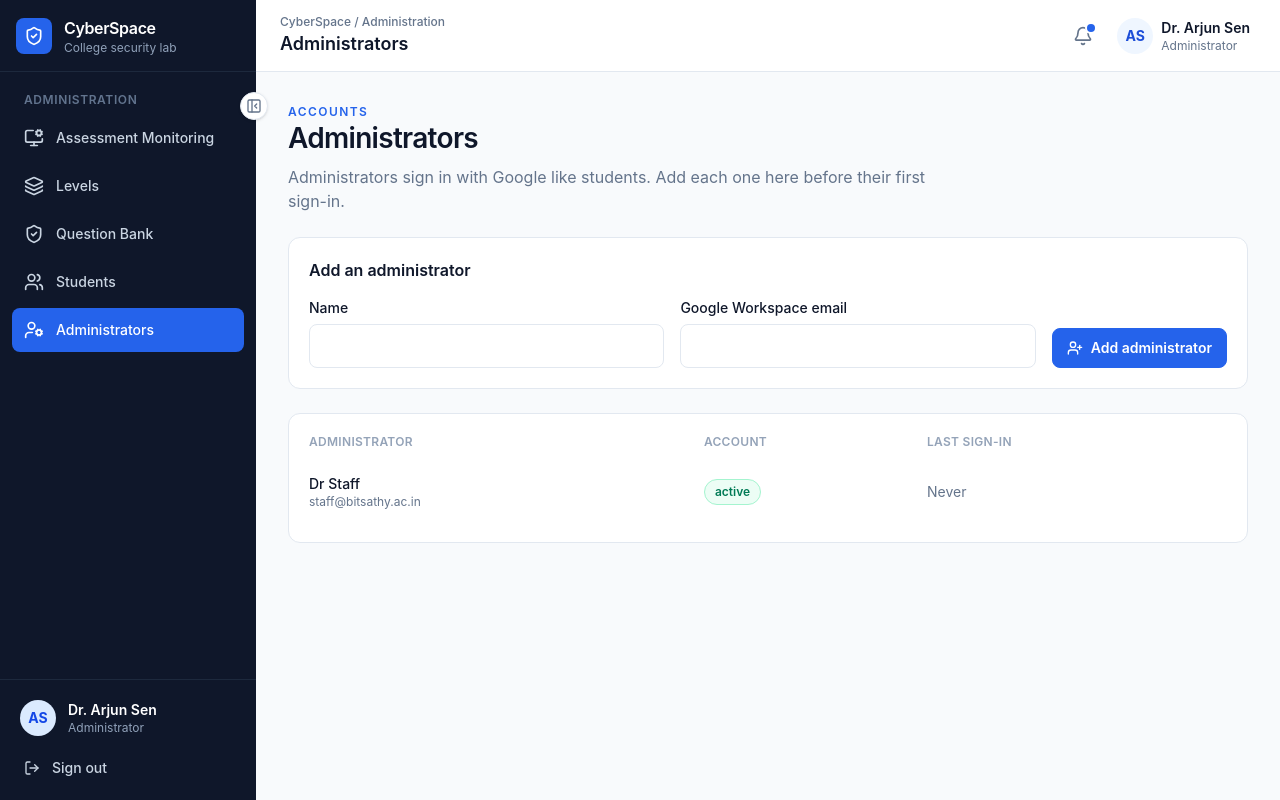
Test case: accounts › adds an administrator and reports a refusal
Expected: the text "Dr Staff" is shown, [309,475,360,492]
Type "Prof New" into the field labelled "Name" at x=487, y=346, box [309,324,664,368]
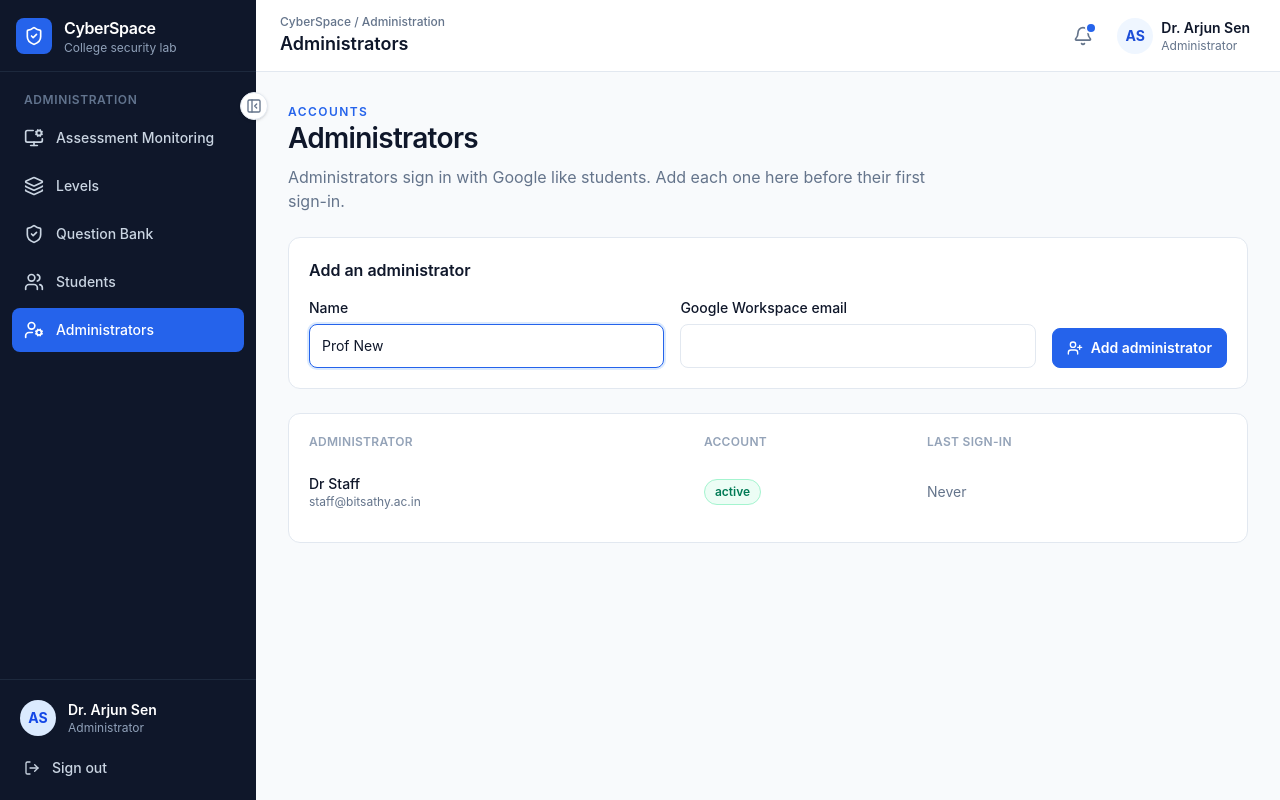
Type "new@bitsathy.ac.in" into the field labelled "Google Workspace email" at x=858, y=346, box [680,324,1036,368]
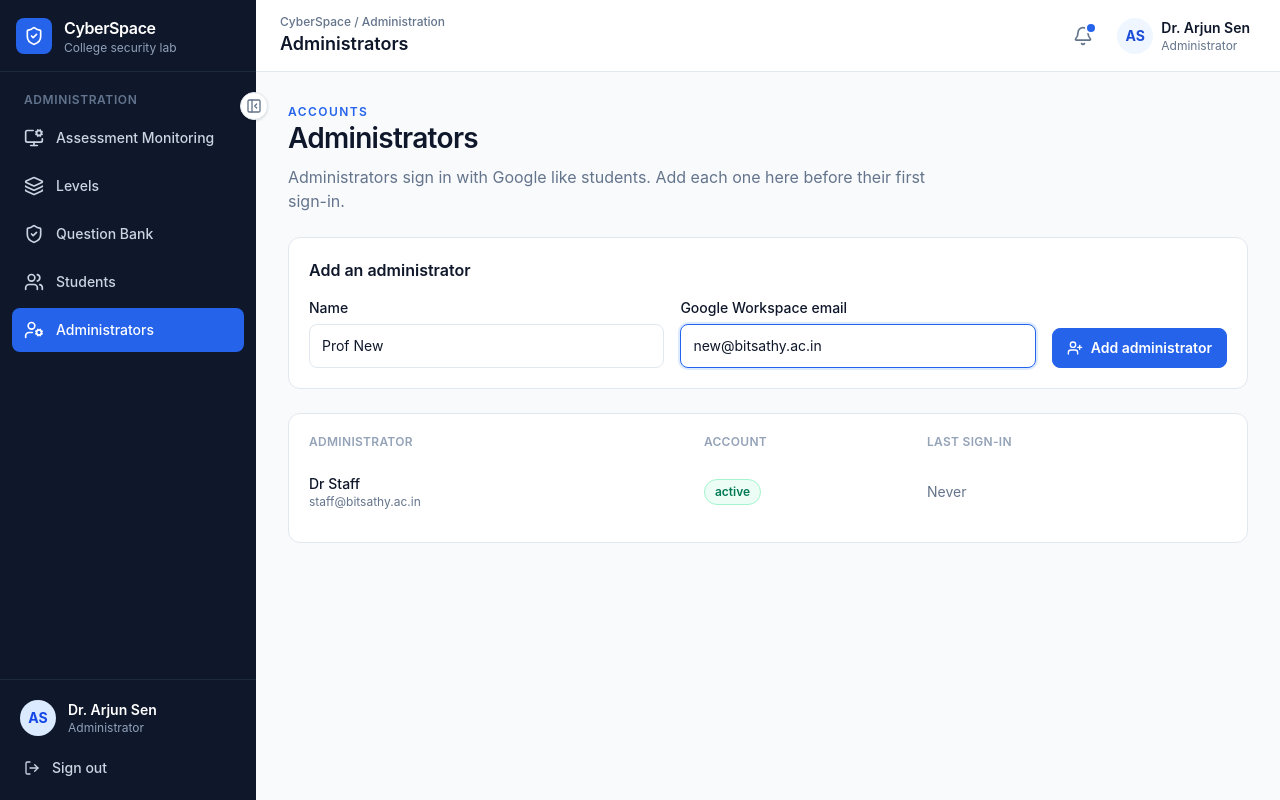
Click the button "Add administrator" at x=1139, y=348, box [1052,328,1227,368]
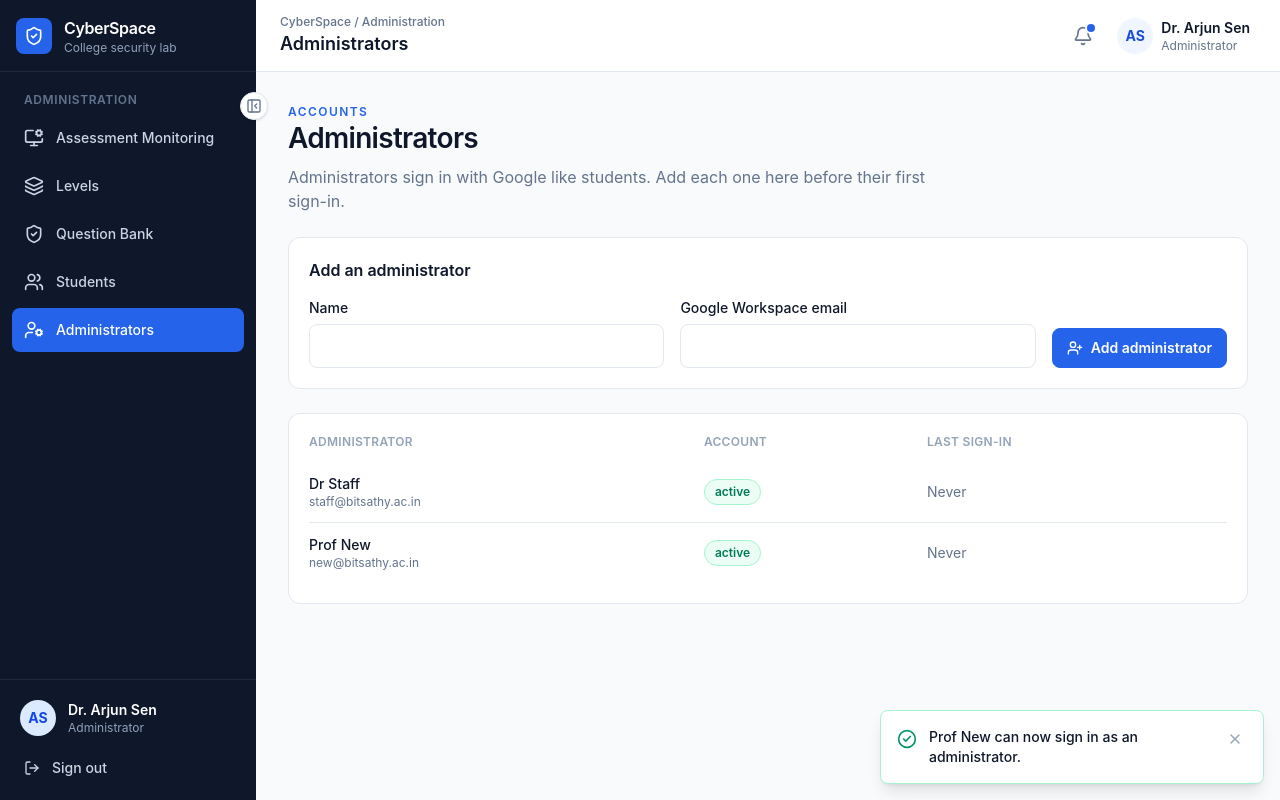
Now the text "Prof New can now sign in as an administrator." is shown, box [929,728,1138,765]
Now the text "new@bitsathy.ac.in" is shown, box [309,555,419,570]
Now the field labelled "Name" is empty
Type "Again" into the field labelled "Name" at x=487, y=346, box [309,324,664,368]
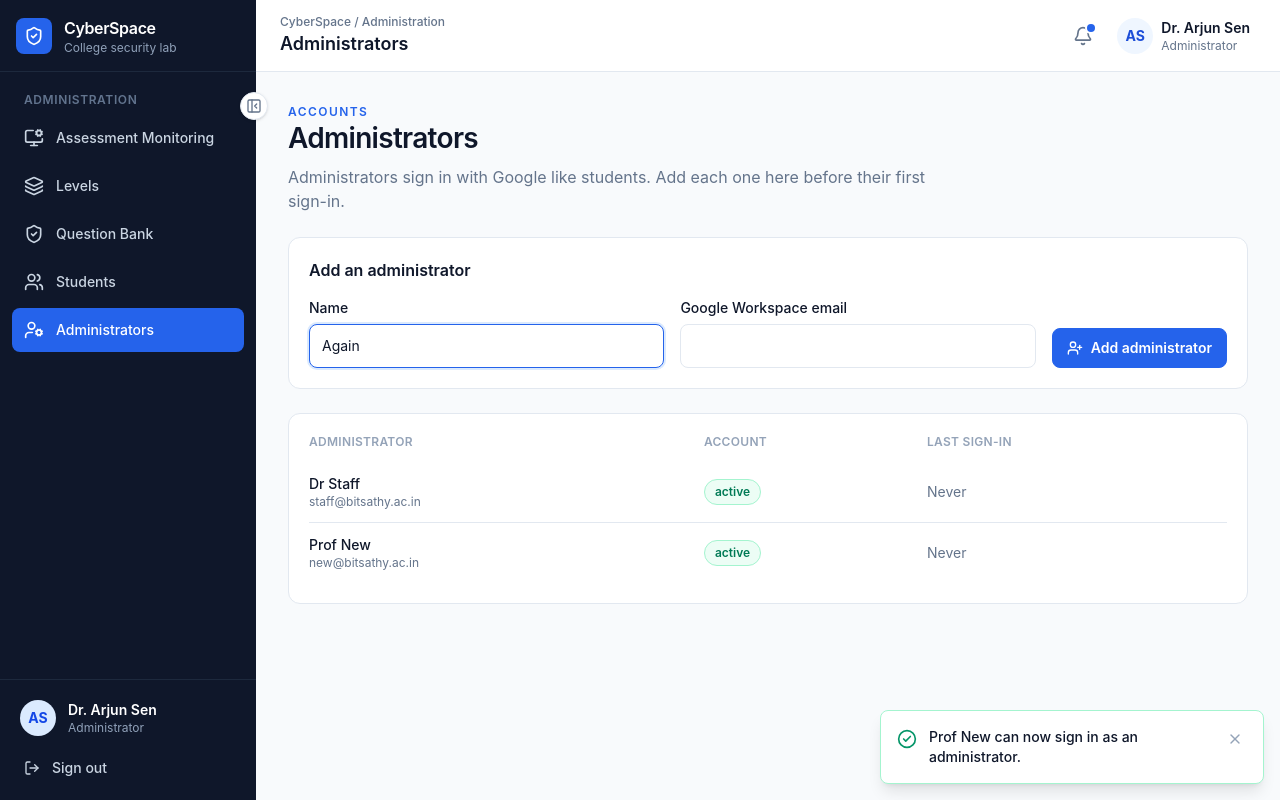
Type "taken@bitsathy.ac.in" into the field labelled "Google Workspace email" at x=858, y=346, box [680,324,1036,368]
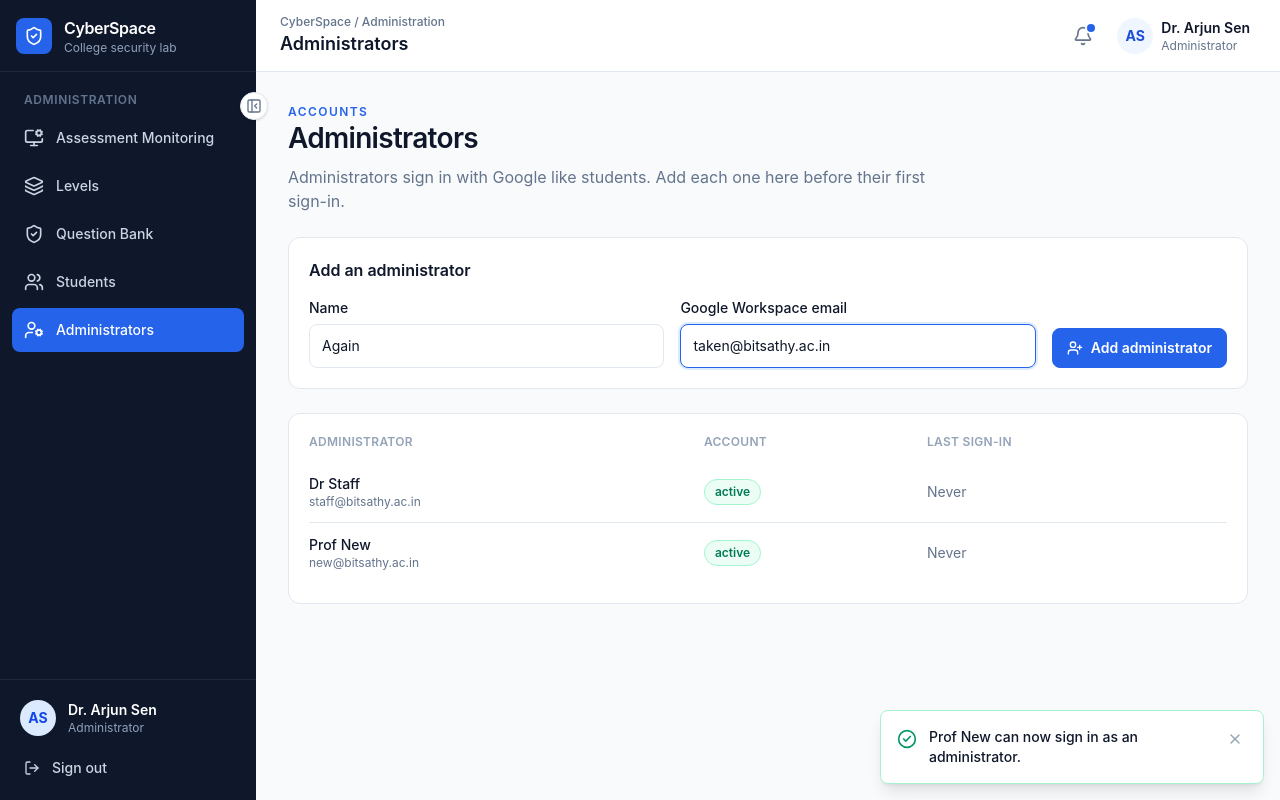
Click the button "Add administrator" at x=1139, y=348, box [1052,328,1227,368]
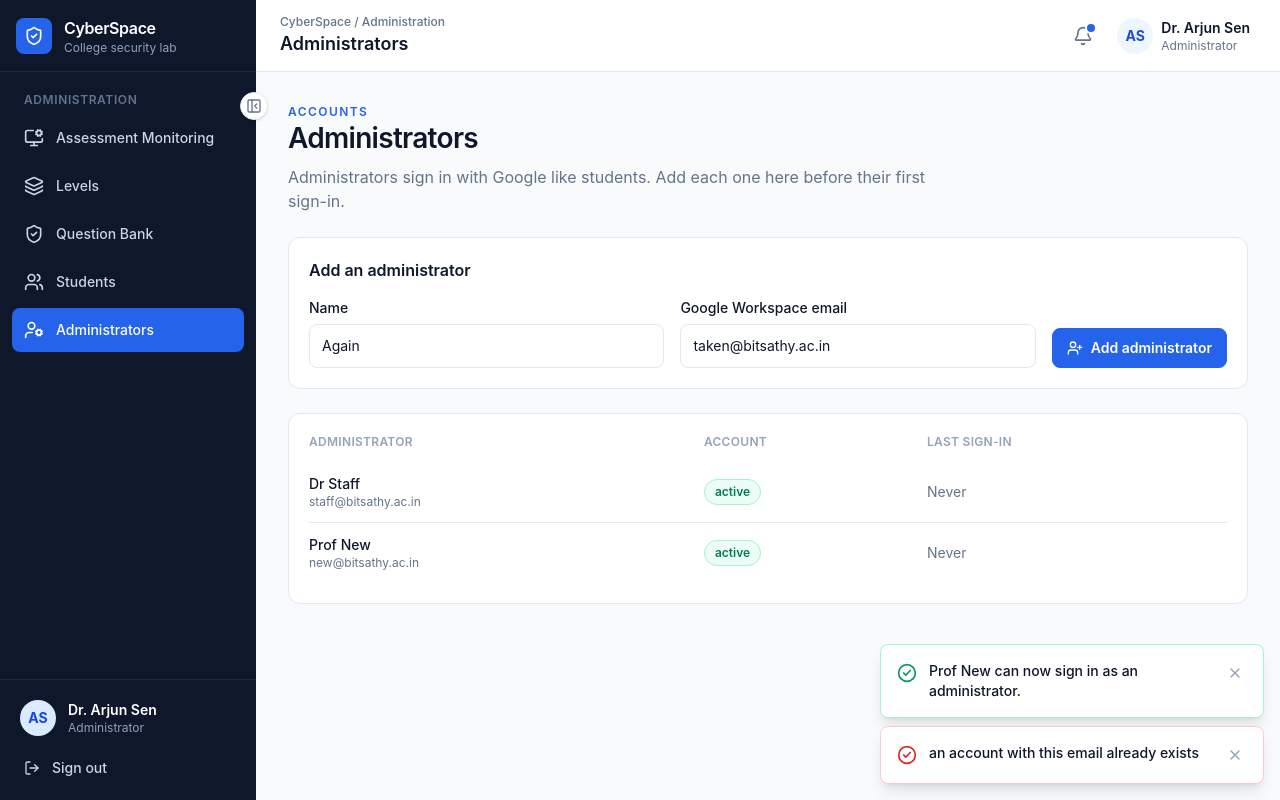
Now the text "an account with this email already exists" is shown, box [929,743,1211,763]
